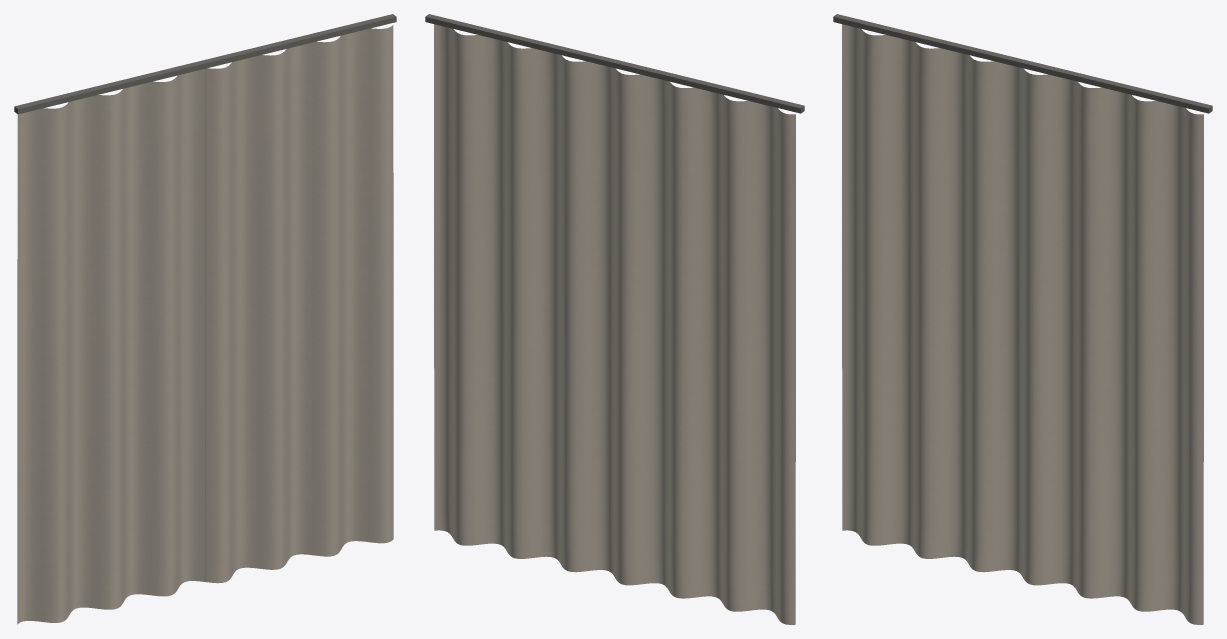
File: curated-sheer-curtain.glb
3 views of the same model, side by side, from view 1: azimuth 30°, elevation 25°; view 2: azimuth 150°, elevation 25°; view 3: azimuth 330°, elevation 25° (orthographic).
Parts seen in each view (by area): view 1: SubPart.001, SubPart; view 2: SubPart.001, SubPart; view 3: SubPart.001, SubPart.
Part boxes in pixels (x1,y1,x2,y2): SubPart.001: [17, 25, 393, 624]; SubPart: [14, 14, 396, 114]; SubPart.001: [434, 24, 795, 624]; SubPart: [425, 14, 804, 113]; SubPart.001: [842, 24, 1203, 624]; SubPart: [833, 14, 1212, 113].
Size of the model in its own units: 1.82 by 2.39 by 0.0879.
2 materials, 1 textured.
